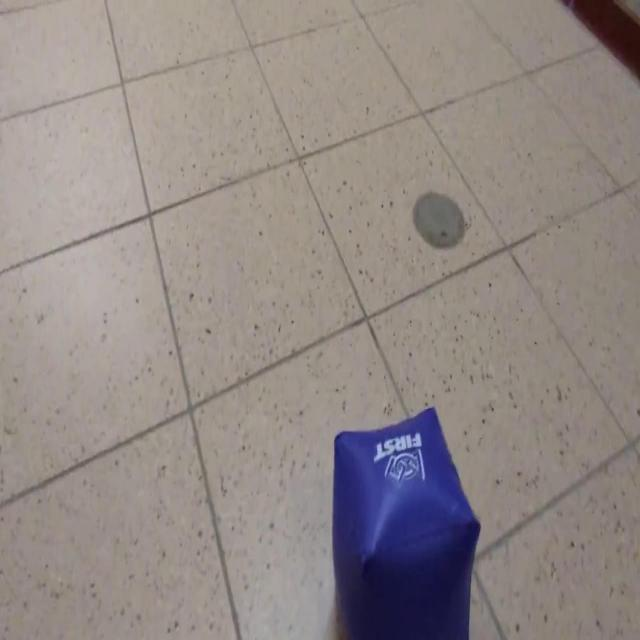frc_cube: (331, 405, 481, 640)
